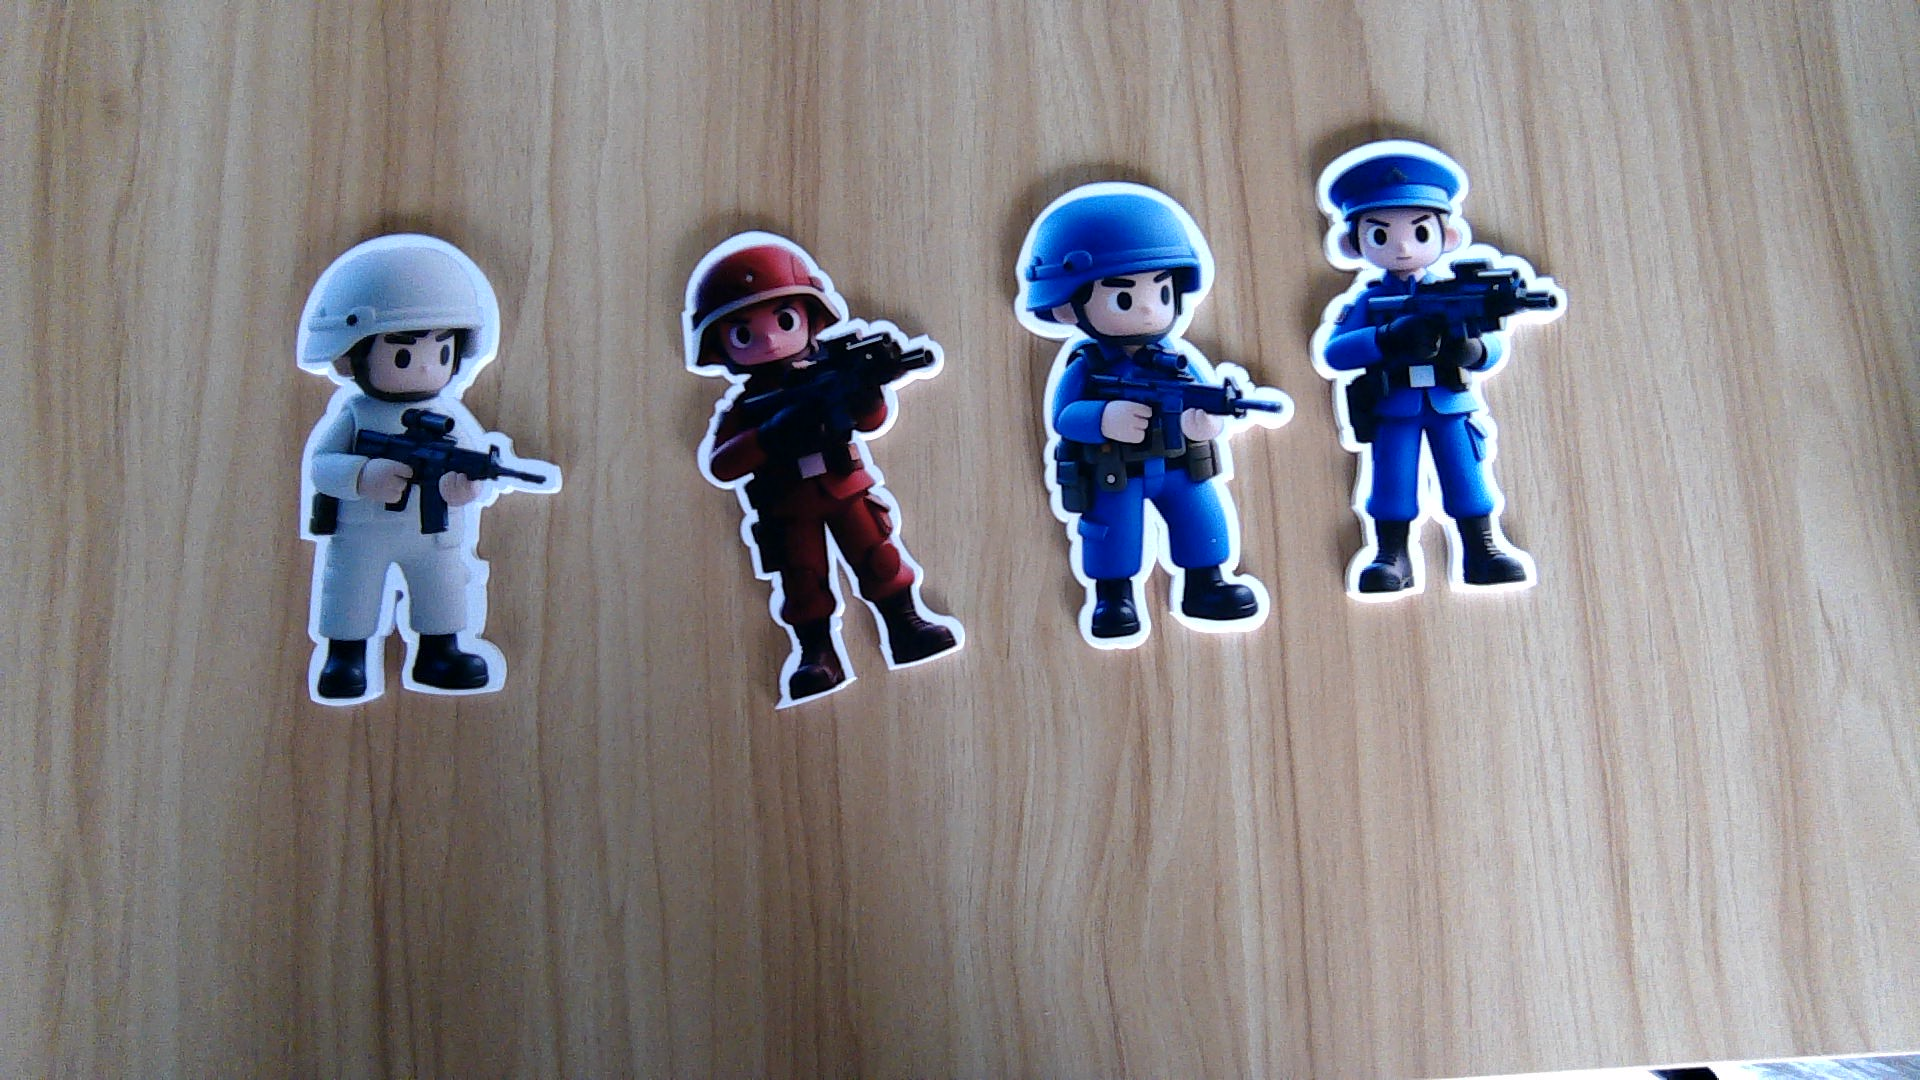人质: (295, 396, 566, 705)
敌人1: (692, 372, 971, 713)
敌人2: (1304, 273, 1571, 600), (1031, 342, 1298, 651)
